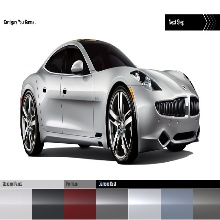no damage: (19, 38, 199, 162)
